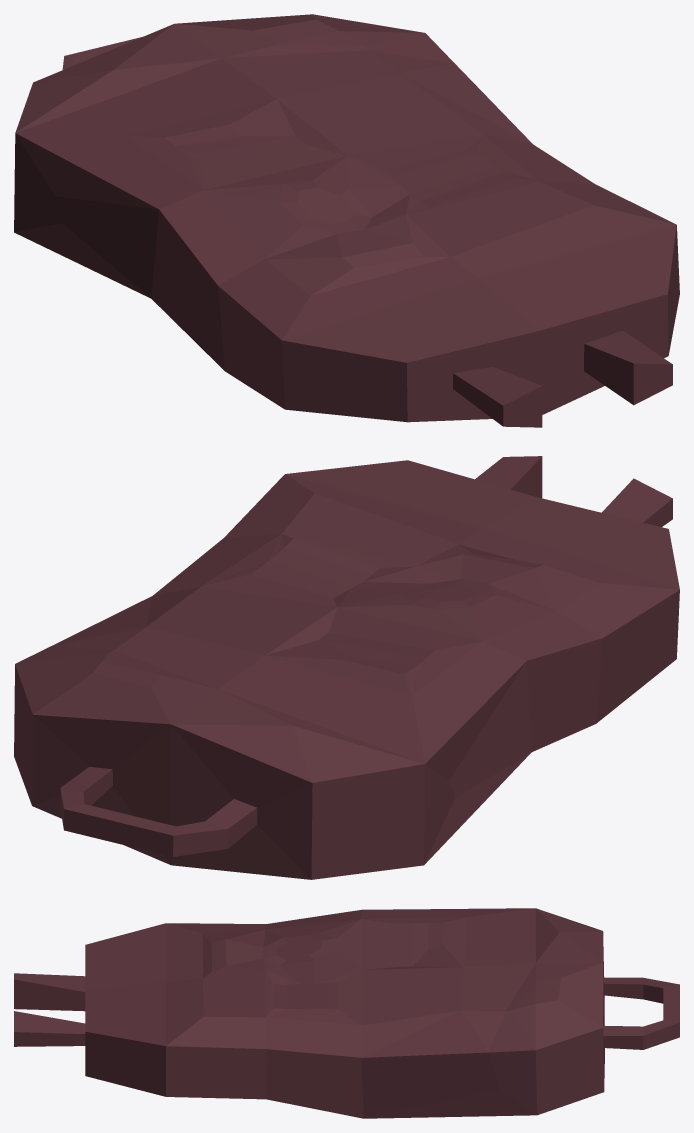
The model's file is blood-bag.fbx.
3 views of the same model, one above another, from view 1: azimuth 30°, elevation 25°; view 2: azimuth 150°, elevation 25°; view 3: azimuth 270°, elevation 25° (orthographic). The views are drawn at different scales.
Visible parts, largest first — view 1: blood-bag; view 2: blood-bag; view 3: blood-bag.
Part boxes in pixels (x1,y1,x2,y2): blood-bag: (14,14,679,427); blood-bag: (14,456,679,879); blood-bag: (14,908,679,1118).
Bounding box in the file's own units: 0.1303 × 0.0441 × 0.2584.
